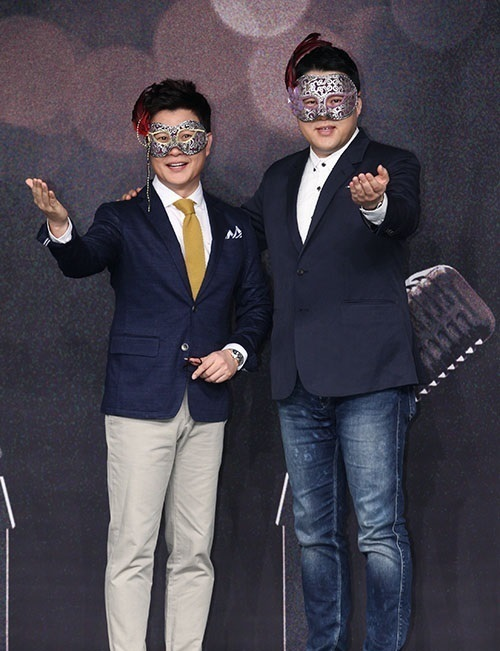face: (297, 66, 353, 149), (150, 104, 203, 186)
